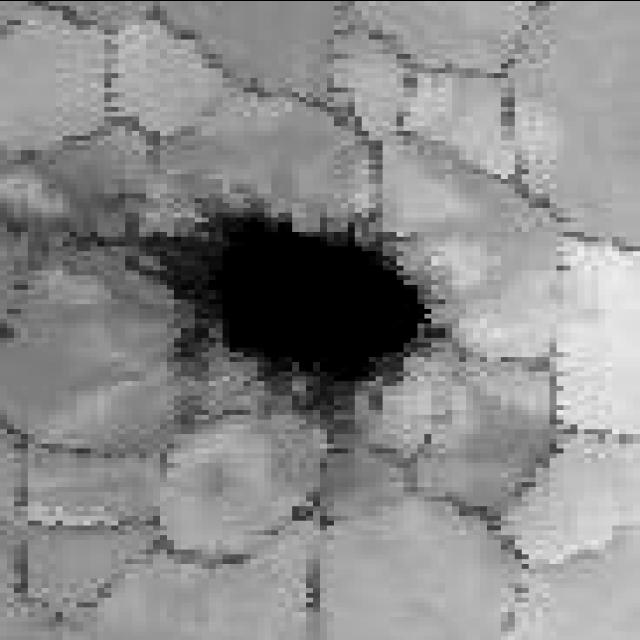good_void: (122, 190, 455, 448)
